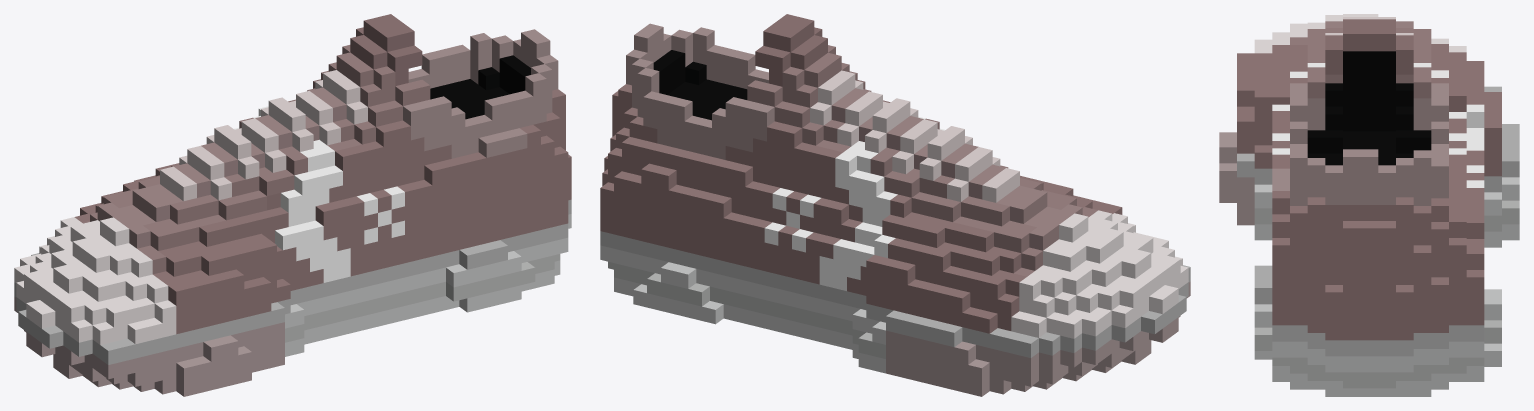
Rendered from Grey Star.fbx.
3 renders of one model, left to right at view 1: azimuth 30°, elevation 25°; view 2: azimuth 150°, elevation 25°; view 3: azimuth 270°, elevation 25°, orthographic. The views are drawn at different scales.
Visible parts, largest first — view 1: Untitled; view 2: Untitled; view 3: Untitled.
Part boxes in pixels (x1,y1,x2,y2): Untitled: (14, 14, 571, 396); Untitled: (600, 14, 1190, 396); Untitled: (1219, 14, 1519, 396).
Bounding box in the file's own units: 390 × 180 × 170.
